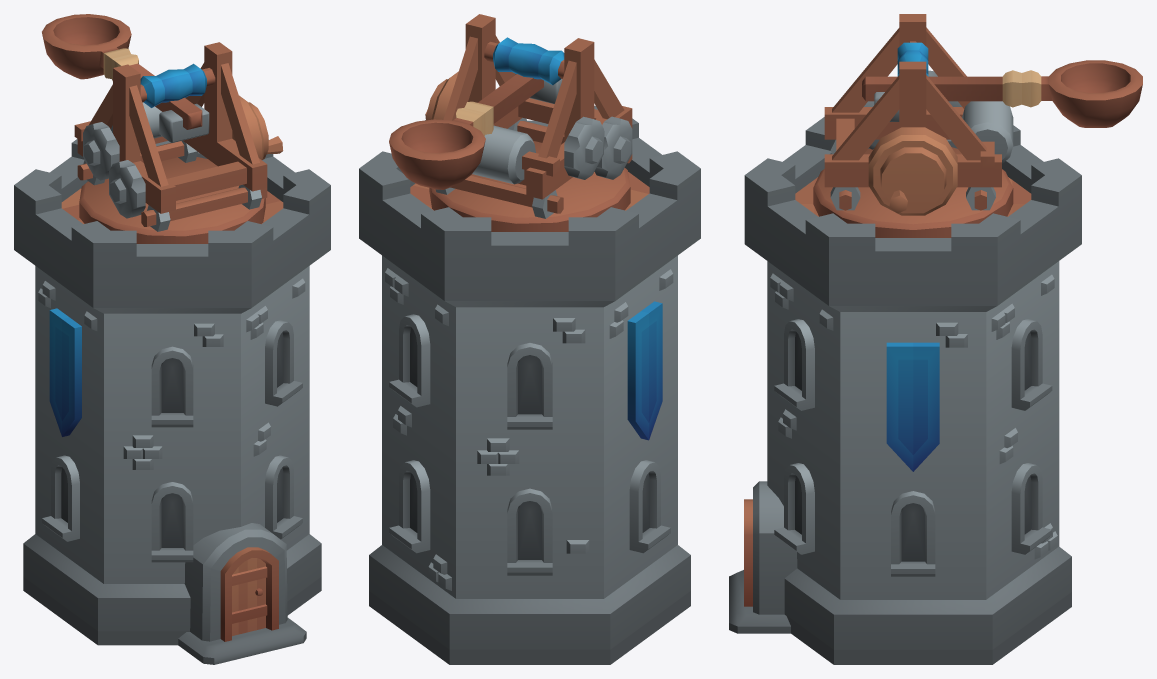
The model's file is camp.glb.
3 views of the same model, side by side, from view 1: azimuth 30°, elevation 25°; view 2: azimuth 150°, elevation 25°; view 3: azimuth 270°, elevation 25° (orthographic). The views are drawn at different scales.
Parts seen in each view (by area): view 1: building_tower_catapult_blue, catapult_turret_blue, catapult_arm_yellow, catapult_arm_blue; view 2: building_tower_catapult_blue, catapult_turret_blue, catapult_arm_blue, catapult_arm_yellow; view 3: building_tower_catapult_blue, catapult_turret_blue, catapult_arm_blue, catapult_arm_yellow.
Boxes of the visible parts, left/top/right/bottom form: building_tower_catapult_blue: left=14, top=139, right=330, bottom=664; catapult_turret_blue: left=74, top=42, right=283, bottom=243; catapult_arm_yellow: left=47, top=14, right=209, bottom=142; catapult_arm_blue: left=42, top=15, right=207, bottom=141; building_tower_catapult_blue: left=359, top=106, right=700, bottom=664; catapult_turret_blue: left=425, top=14, right=632, bottom=231; catapult_arm_blue: left=389, top=74, right=561, bottom=189; catapult_arm_yellow: left=396, top=74, right=562, bottom=165; building_tower_catapult_blue: left=729, top=117, right=1081, bottom=664; catapult_turret_blue: left=813, top=14, right=1013, bottom=237; catapult_arm_blue: left=865, top=60, right=1142, bottom=127; catapult_arm_yellow: left=862, top=60, right=1136, bottom=127.
Bounding box in the file's own units: 0.9298 × 2.11 × 1.3.
1 material, 1 textured.
